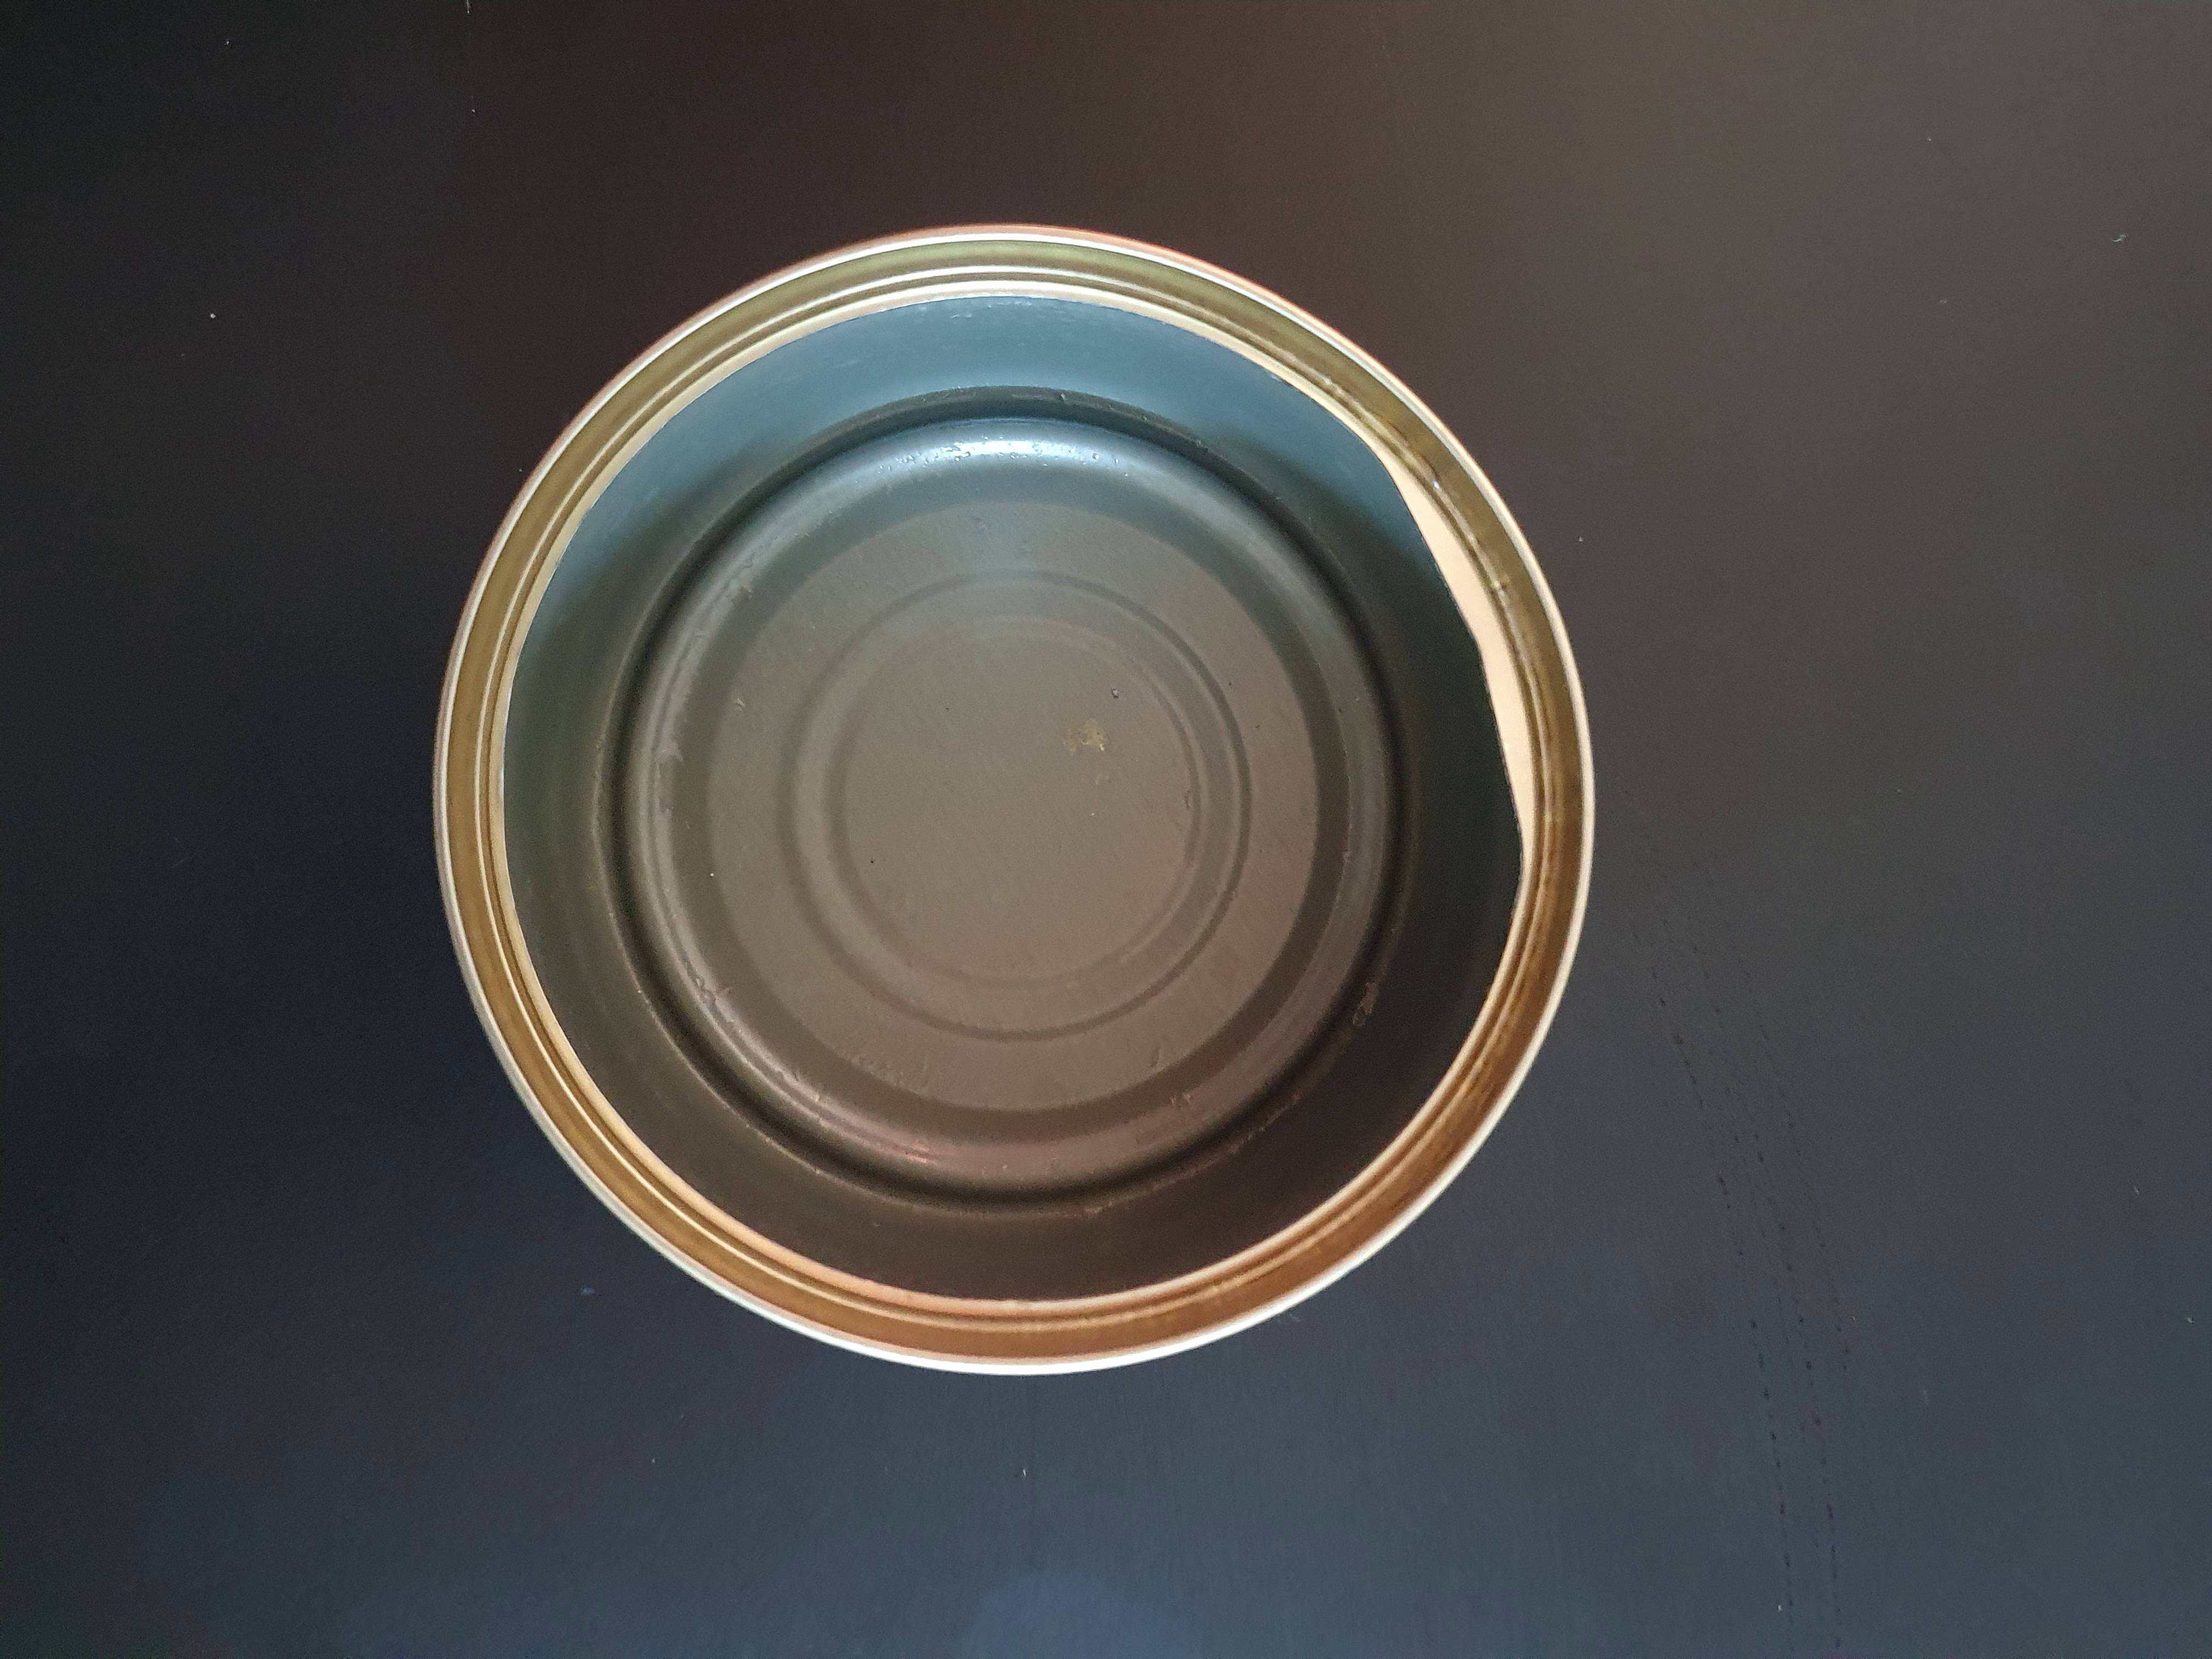metal: (402, 169, 1667, 1436)
